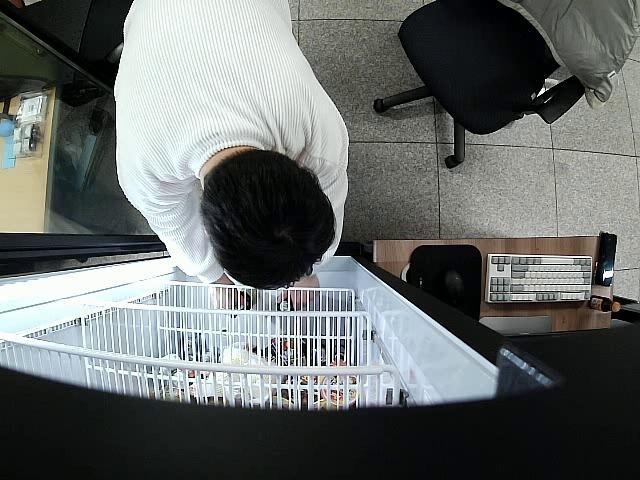19_17cha: (234, 288, 259, 310), (278, 298, 294, 312)
